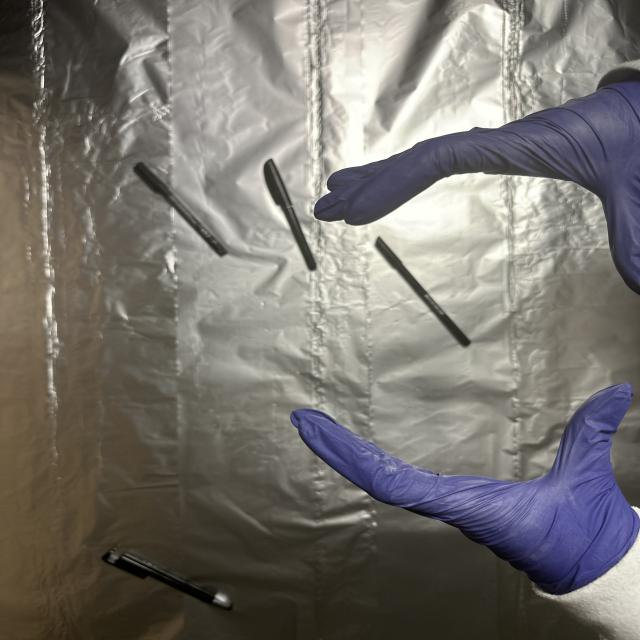gloves_contaminated: (291, 383, 640, 595), (314, 71, 640, 293)
